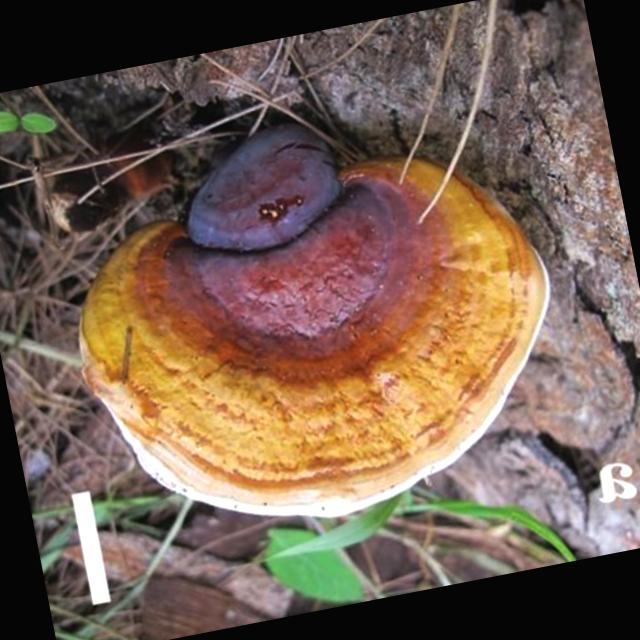ganoderma: (40, 75, 591, 563)
